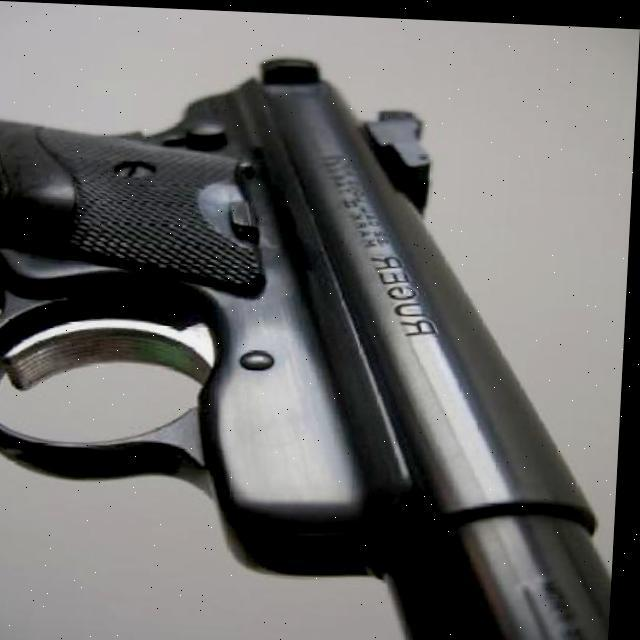gun: (0, 44, 638, 640)
